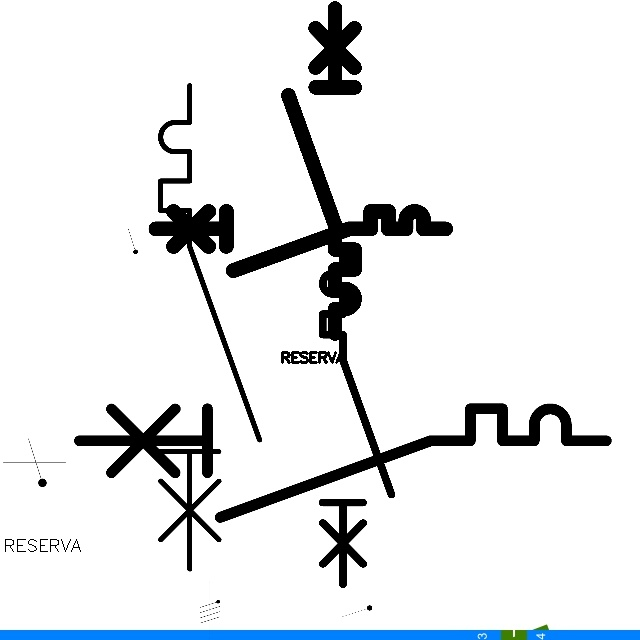interruptor_termomagnetico: (65, 395, 619, 530), (148, 73, 272, 581), (314, 239, 400, 593), (280, 0, 363, 342), (148, 204, 452, 278)
